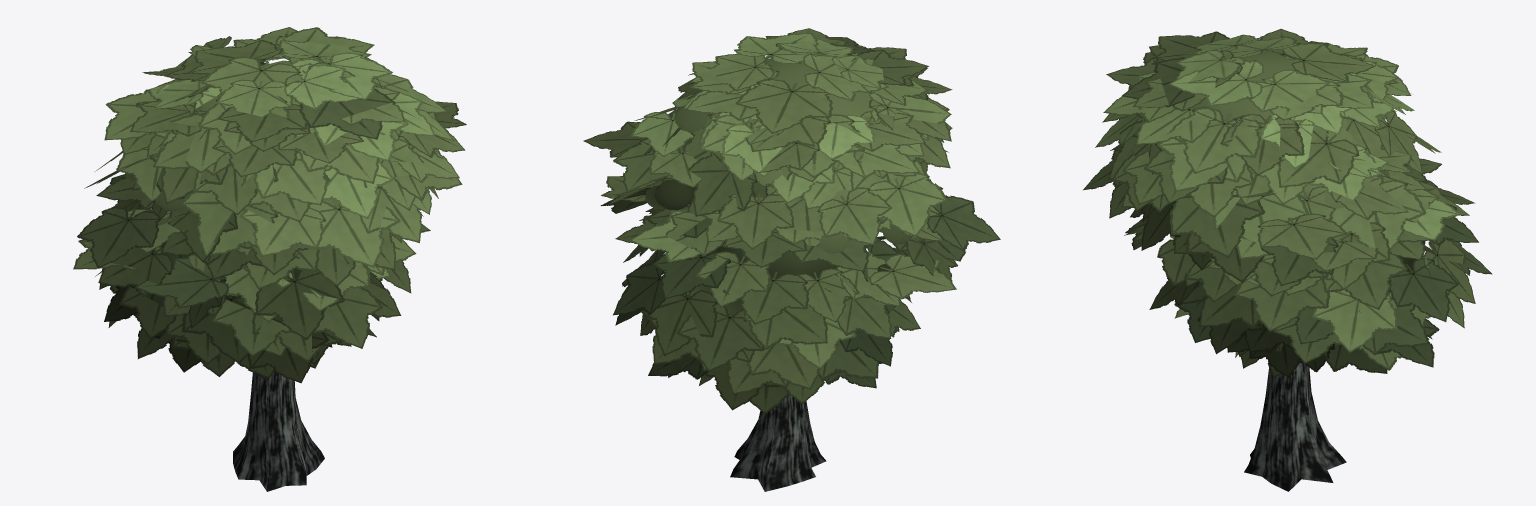
File: ZonTree04.glb
The picture shows the model from 3 angles, left to right: view 1: azimuth 30°, elevation 25°; view 2: azimuth 150°, elevation 25°; view 3: azimuth 270°, elevation 25°; orthographic projection. The views are drawn at different scales.
Parts seen in each view (by area): view 1: ZonTree04_leaves; view 2: ZonTree04_leaves; view 3: ZonTree04_leaves.
Part boxes in pixels (x1,y1,x2,y2): ZonTree04_leaves: (73,27,466,491); ZonTree04_leaves: (583,28,1000,491); ZonTree04_leaves: (1083,29,1492,491).
Size of the model in its own units: 14.69 by 12.45 by 12.66.
3 materials, 2 textured.
